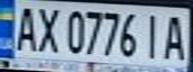0: (60, 7, 84, 55)
6: (118, 9, 142, 60)
7: (81, 7, 103, 56), (100, 8, 121, 57)
A: (9, 2, 39, 52), (160, 11, 190, 61)
I: (139, 11, 166, 60)
X: (33, 3, 63, 54)
